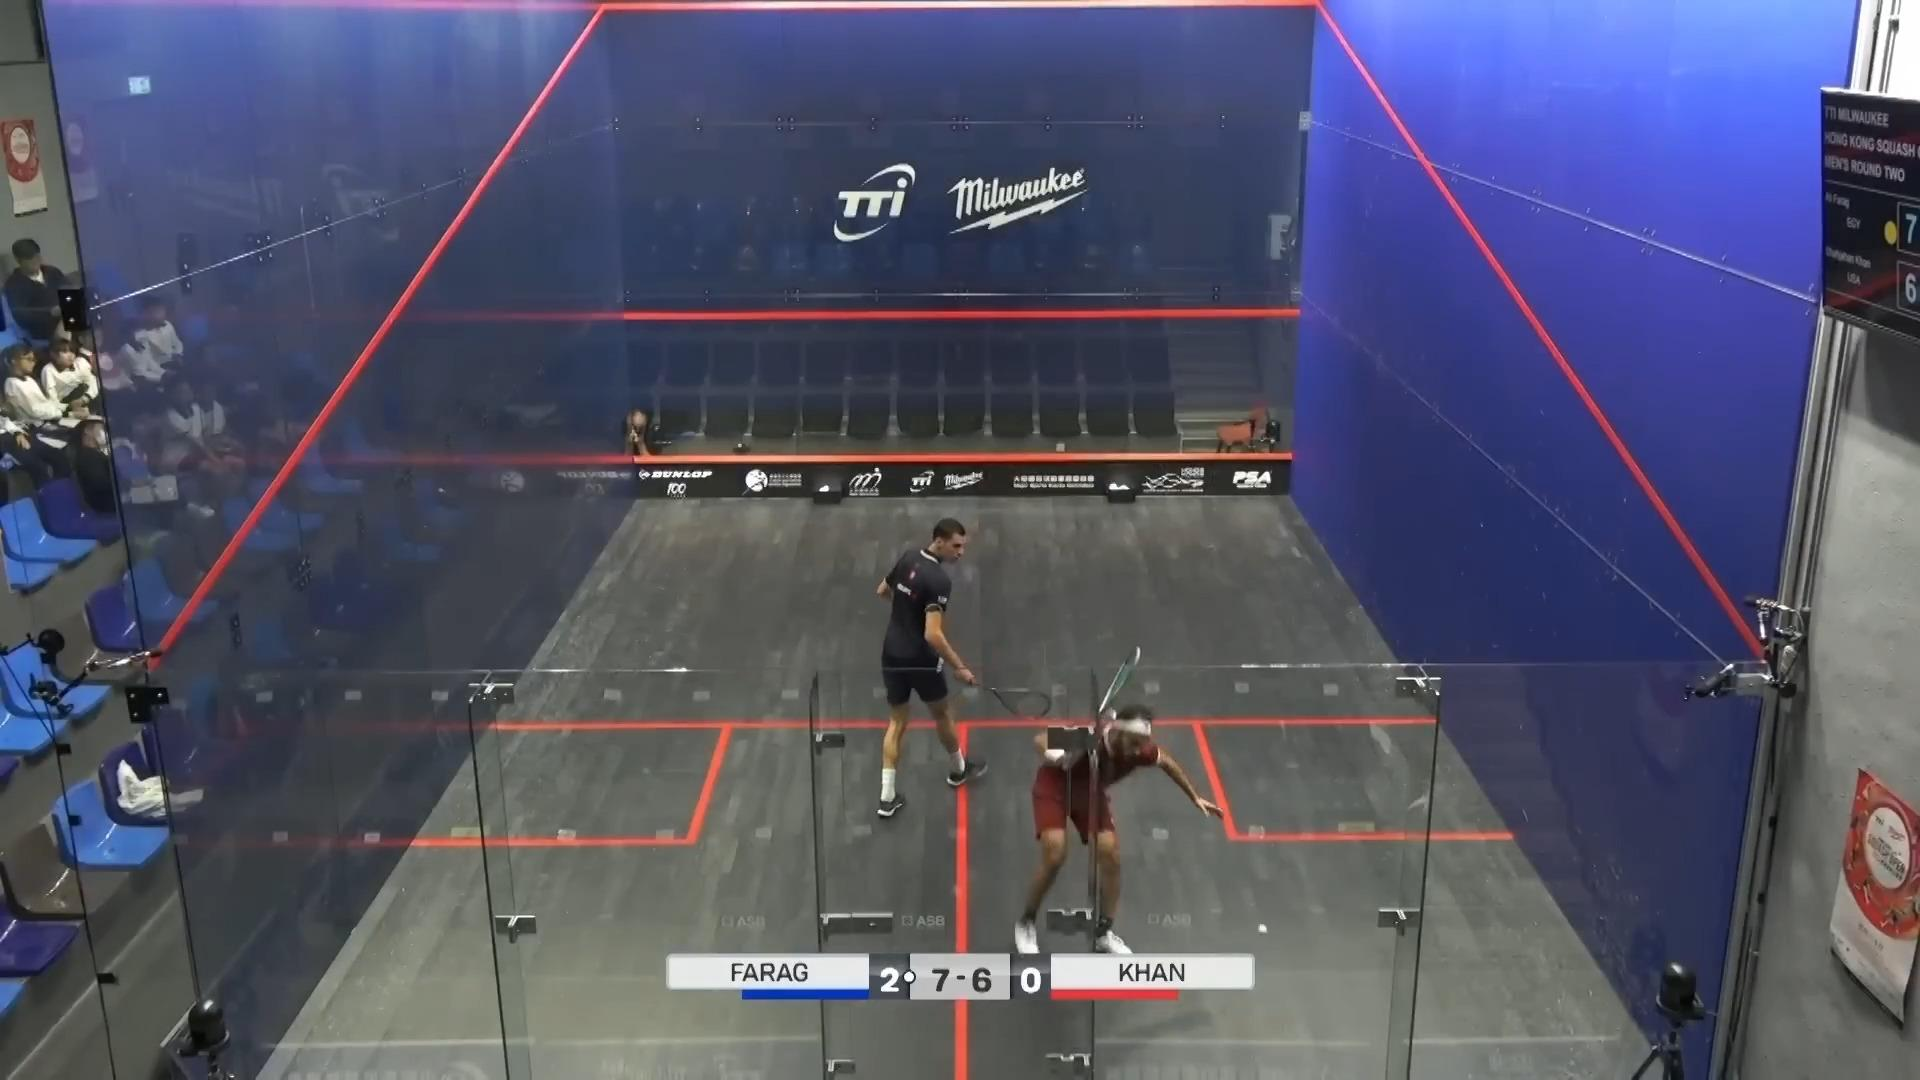Racket: (1080, 640, 1145, 752), (980, 679, 1063, 721)
